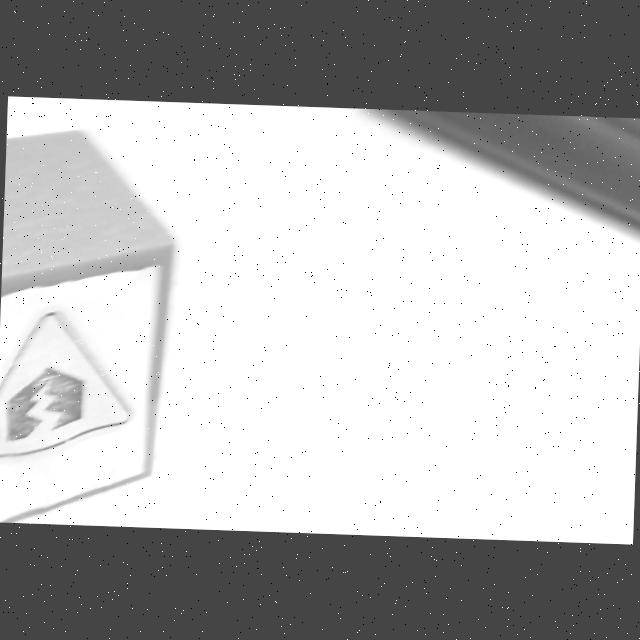Earthquake: (0, 310, 135, 465), (0, 311, 129, 458)
